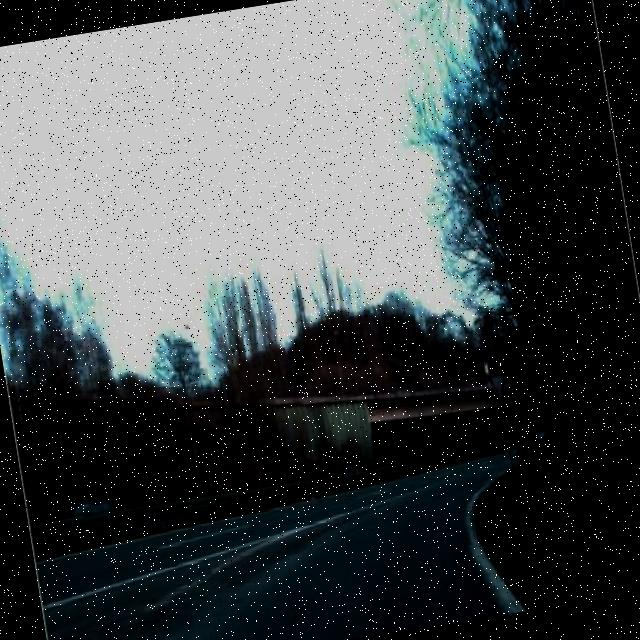Ustap pierwszenstwa: (484, 364, 515, 406)
